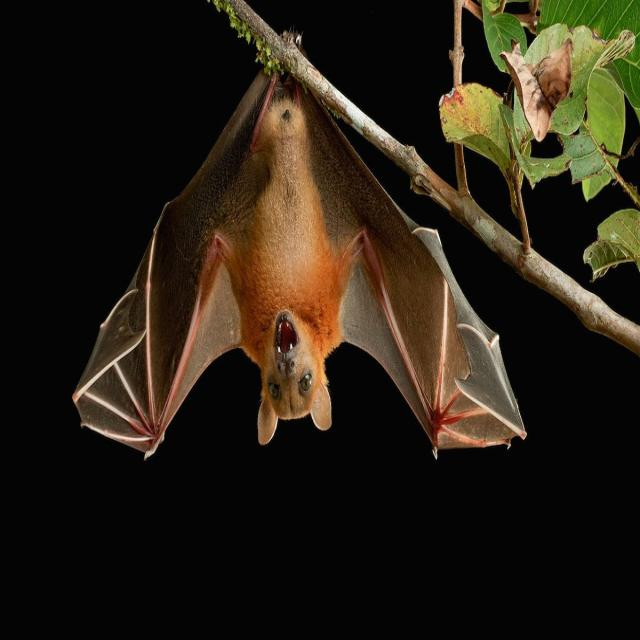Bat: (70, 54, 526, 446)
